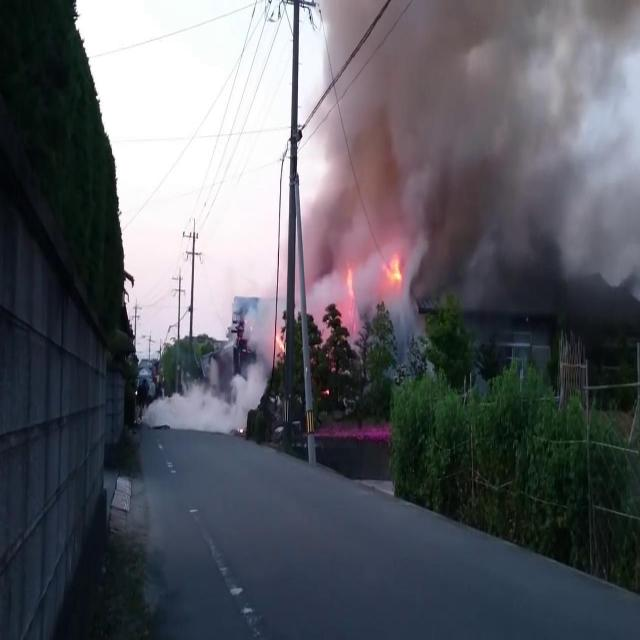Fire: (386, 255, 401, 278), (273, 333, 286, 351), (346, 260, 354, 282)
